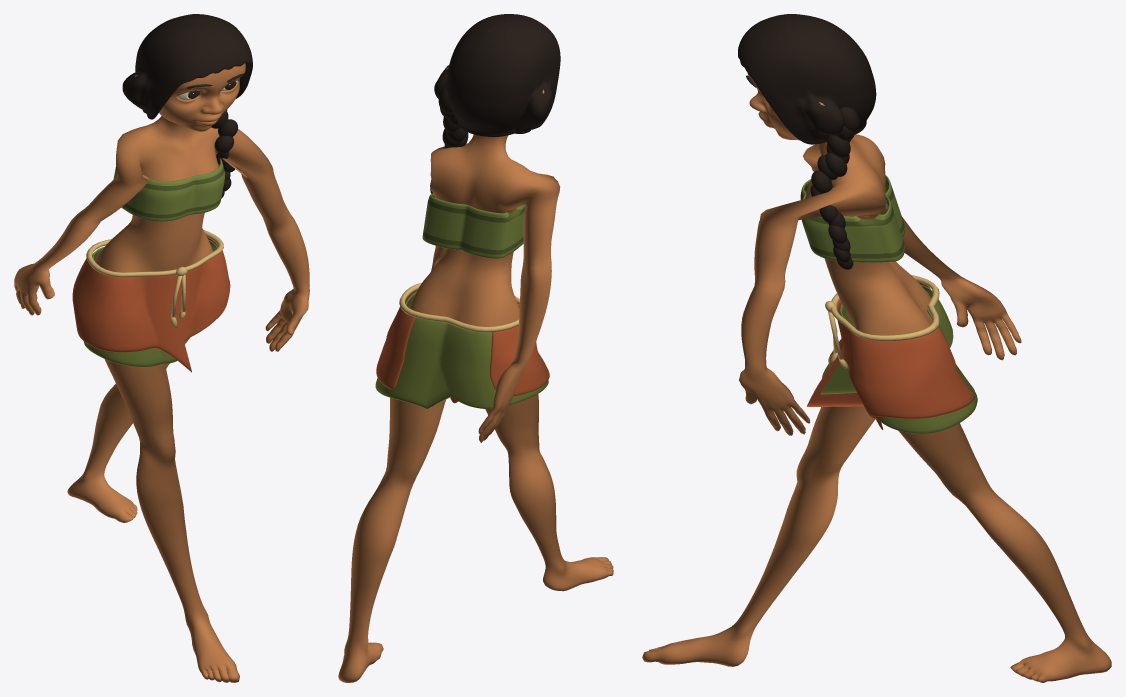
The model's file is mulher_03.glb.
3 views of the same model, side by side, from view 1: azimuth 30°, elevation 25°; view 2: azimuth 150°, elevation 25°; view 3: azimuth 270°, elevation 25° (orthographic). The views are drawn at different scales.
Parts seen in each view (by area): view 1: mulher_03_corpo; view 2: mulher_03_corpo; view 3: mulher_03_corpo.
Boxes of the visible parts, <box> form: mulher_03_corpo: <box>14,14,309,682</box>; mulher_03_corpo: <box>338,14,613,682</box>; mulher_03_corpo: <box>642,14,1111,682</box>.
Size of the model in its own units: 0.5273 by 1.65 by 1.07.
